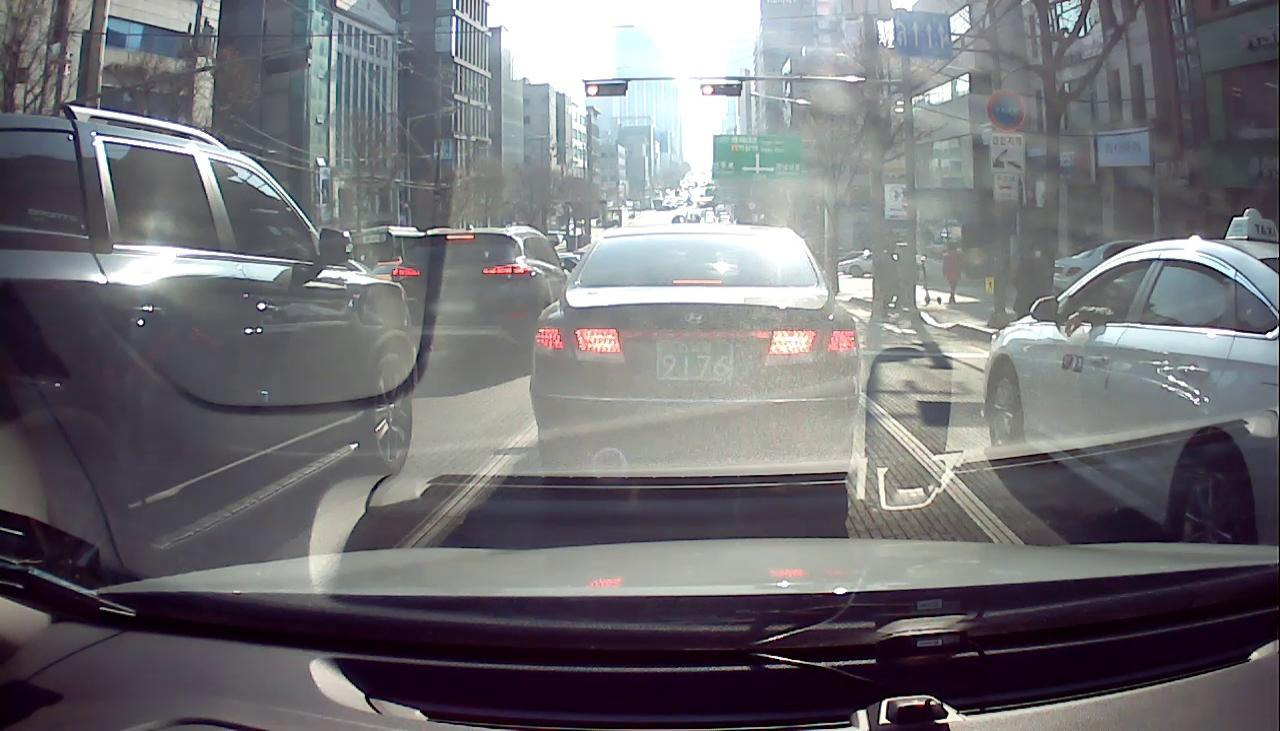Red Light: (585, 82, 599, 97), (701, 84, 715, 96)
